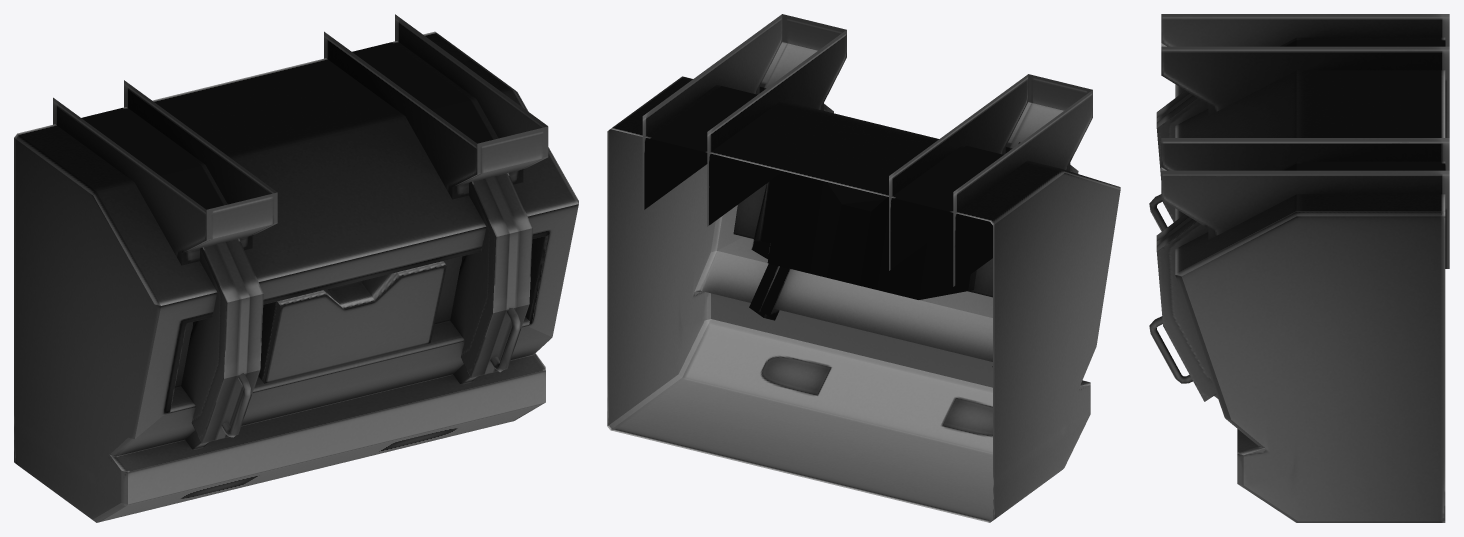
The model's file is wall console 1111.gltf.
The picture shows the model from 3 angles, left to right: view 1: azimuth 30°, elevation 25°; view 2: azimuth 150°, elevation 25°; view 3: azimuth 270°, elevation 25°; orthographic projection. The views are drawn at different scales.
Parts seen in each view (by area): view 1: Wall Console.003; view 2: Wall Console.003; view 3: Wall Console.003.
Part boxes in pixels (x1=…): Wall Console.003: x1=14, y1=14, x2=578, y2=522; Wall Console.003: x1=607, y1=14, x2=1120, y2=522; Wall Console.003: x1=1149, y1=14, x2=1449, y2=522.
Size of the model in its own units: 1.07 by 0.8575 by 0.6967.
Materials: 1 (1 with a texture image).
